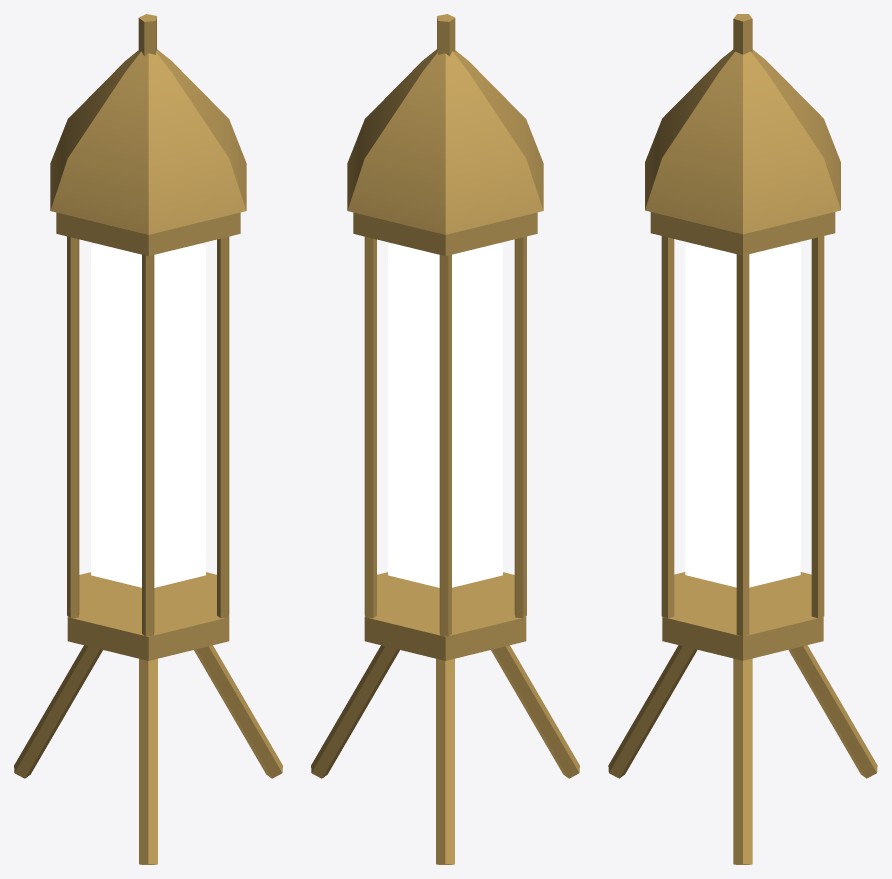
The model's file is fs-lantern-brass.glb.
The picture shows the model from 3 angles, left to right: view 1: azimuth 30°, elevation 25°; view 2: azimuth 150°, elevation 25°; view 3: azimuth 270°, elevation 25°; orthographic projection.
Visible parts, largest first — view 1: frame__brass, glow__led; view 2: frame__brass, glow__led; view 3: frame__brass, glow__led.
Boxes of the visible parts, x1,y1,x2,y2 form: frame__brass: [14, 14, 282, 864]; glow__led: [91, 244, 205, 587]; frame__brass: [311, 14, 579, 864]; glow__led: [388, 244, 502, 587]; frame__brass: [608, 14, 877, 864]; glow__led: [685, 243, 800, 587].
Bounding box in the file's own units: 0.4032 × 1.31 × 0.404.
